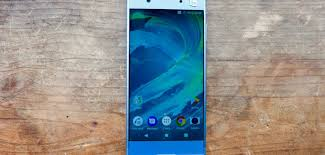sony: (123, 1, 209, 155)
